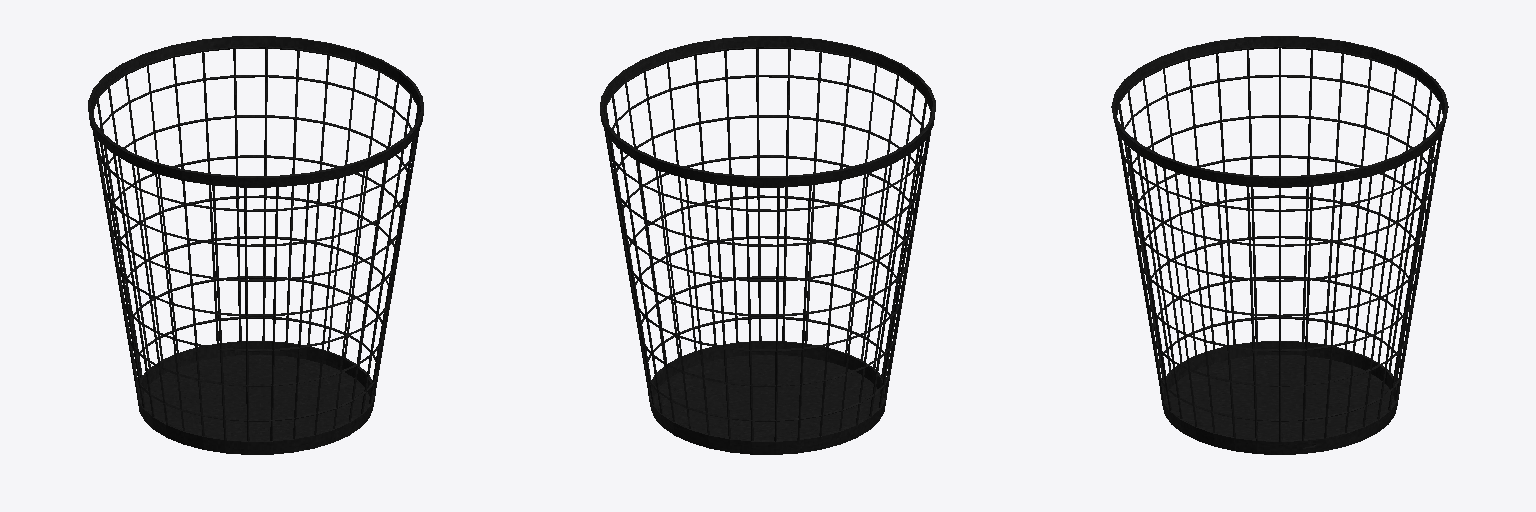
3 views of the same model, side by side, from view 1: azimuth 30°, elevation 25°; view 2: azimuth 150°, elevation 25°; view 3: azimuth 270°, elevation 25° (orthographic).
Visible parts, largest first — view 1: Cylinder; view 2: Cylinder; view 3: Cylinder.
Boxes of the visible parts, <box> form: Cylinder: <box>88,36,423,454</box>; Cylinder: <box>600,36,935,454</box>; Cylinder: <box>1111,36,1448,454</box>.
Bounding box in the file's own units: 5.6 × 5.48 × 5.6.
Materials: 1 (1 with a texture image).